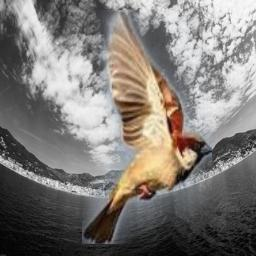Sparrow: (82, 10, 212, 244)
